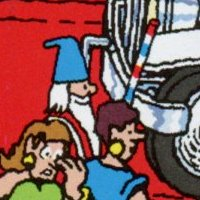wb: (43, 34, 96, 114)
